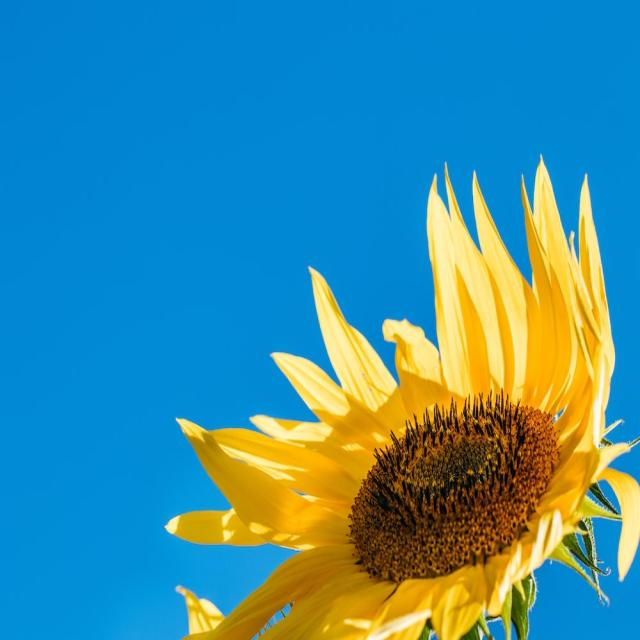sunflower: (161, 146, 640, 640)
